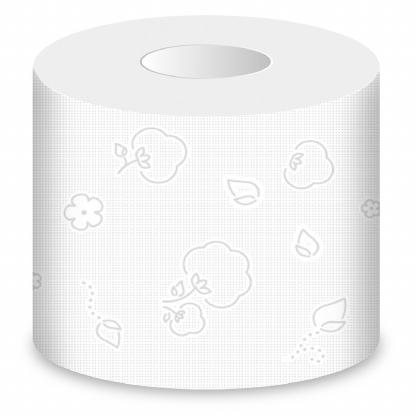tissue: (30, 15, 390, 394)
